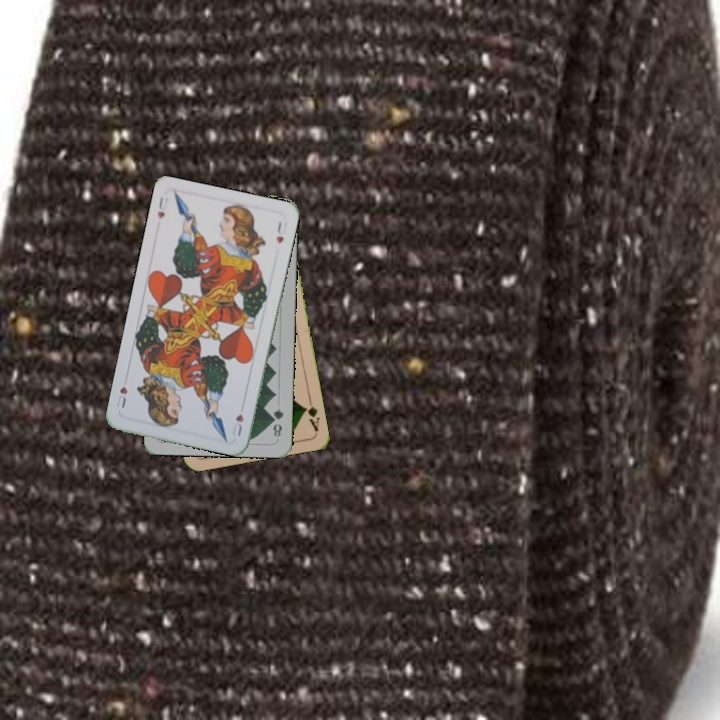G8: (268, 404, 286, 440)
GA: (300, 394, 322, 434)
HU: (228, 410, 246, 439), (153, 193, 171, 222)
